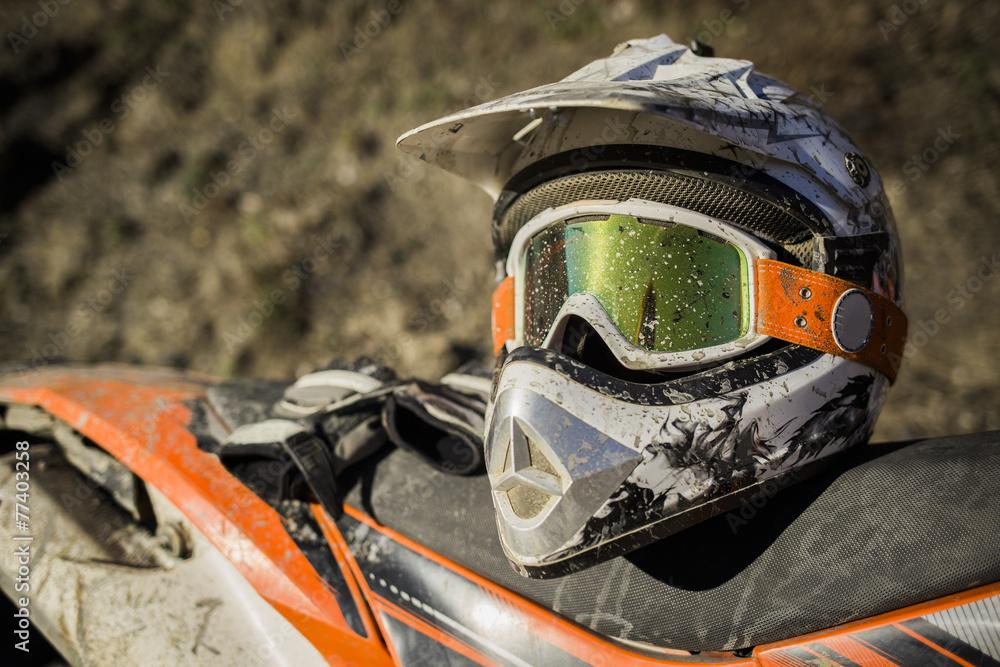helmet: (394, 30, 912, 583)
